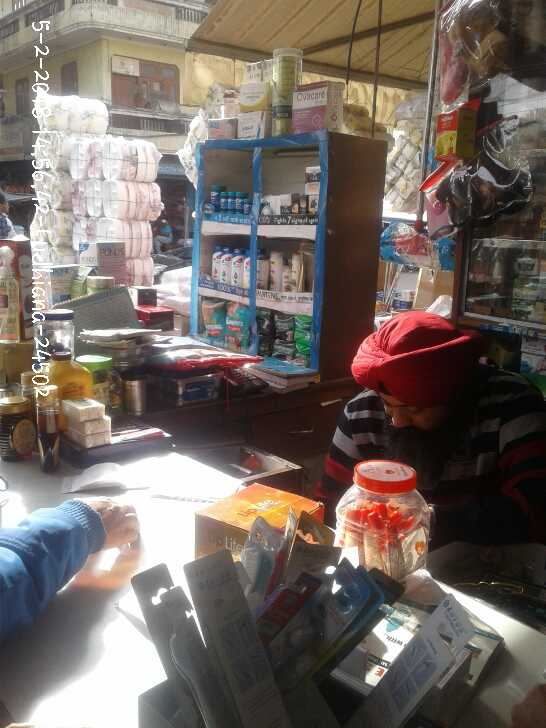vicks: (198, 180, 252, 218)
